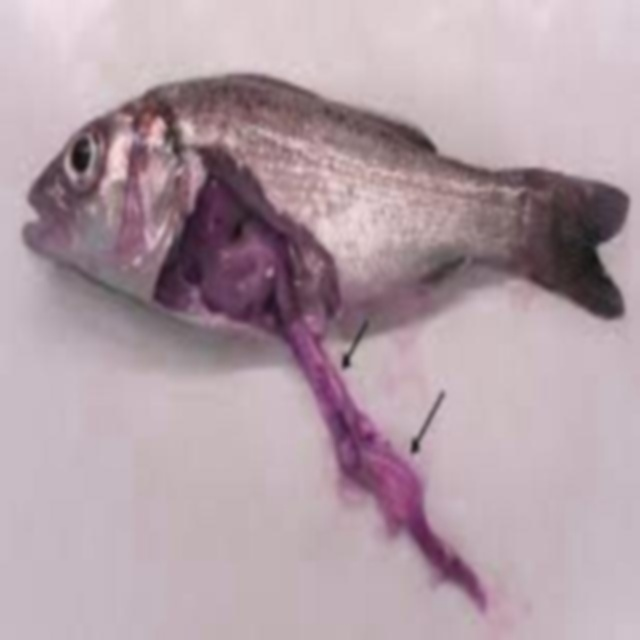EUS Disease: (29, 79, 640, 640), (138, 162, 494, 625)
